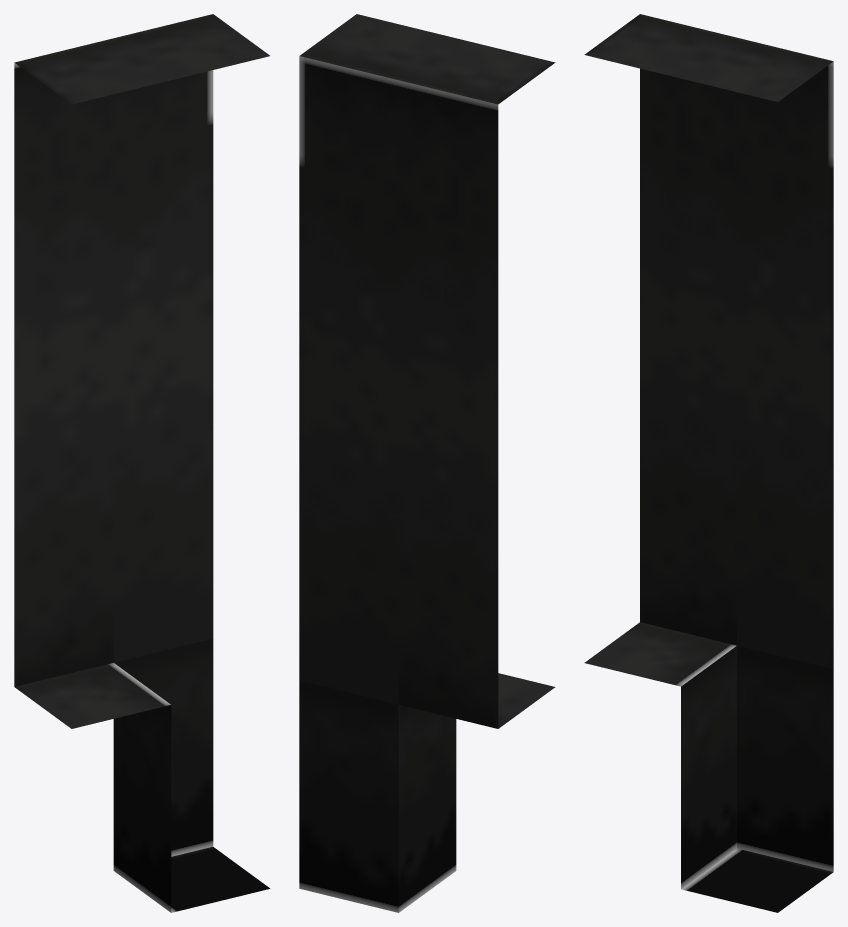
File: pit-corner-r.obj
The picture shows the model from 3 angles, left to right: view 1: azimuth 30°, elevation 25°; view 2: azimuth 150°, elevation 25°; view 3: azimuth 330°, elevation 25°; orthographic projection. The views are drawn at different scales.
Parts seen in each view (by area): view 1: Plane.007; view 2: Plane.007; view 3: Plane.007.
Boxes of the visible parts, x1=… form: Plane.007: x1=14, y1=14, x2=270, y2=912; Plane.007: x1=299, y1=14, x2=555, y2=912; Plane.007: x1=584, y1=14, x2=833, y2=912.
Size of the model in its own units: 2 by 8 by 1.
Materials: 1 (1 with a texture image).
